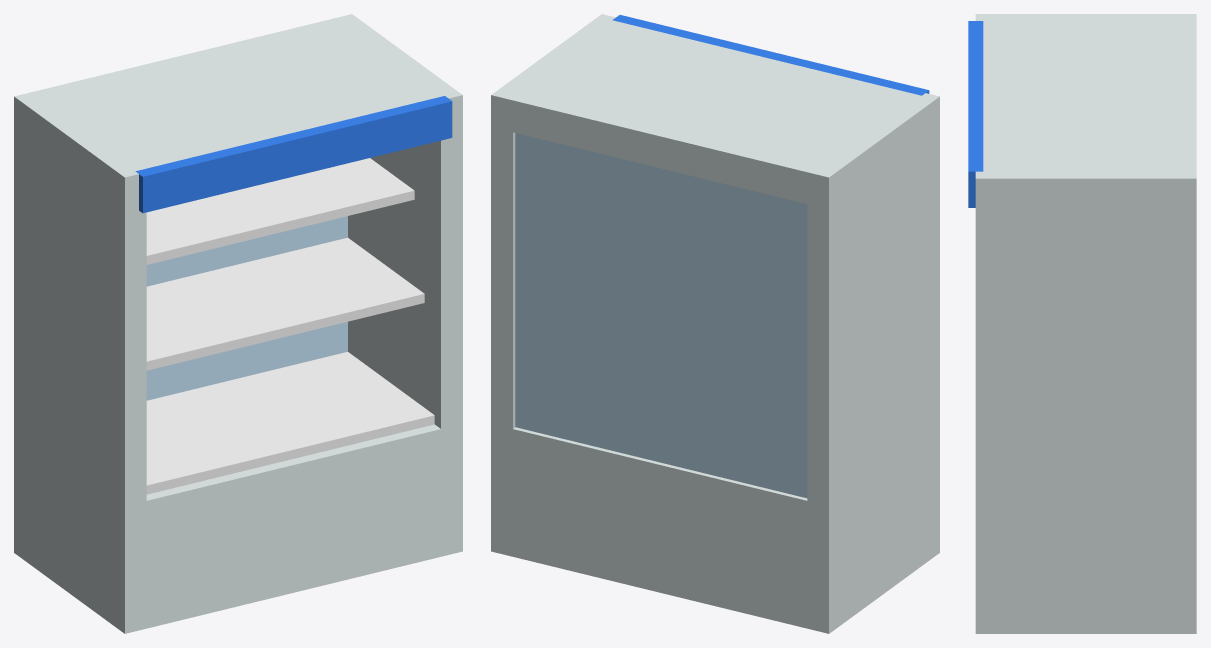
The model's file is market_dairy.glb.
3 renders of one model, left to right at view 1: azimuth 30°, elevation 25°; view 2: azimuth 150°, elevation 25°; view 3: azimuth 270°, elevation 25°, orthographic.
Parts seen in each view (by area): view 1: MarketDairy; view 2: MarketDairy; view 3: MarketDairy.
Boxes of the visible parts, x1,y1,x2,y2 form: MarketDairy: (14,14,462,633); MarketDairy: (491,14,939,633); MarketDairy: (968,14,1196,633).
Bounding box in the file's own units: 1.55 × 2 × 0.91.
